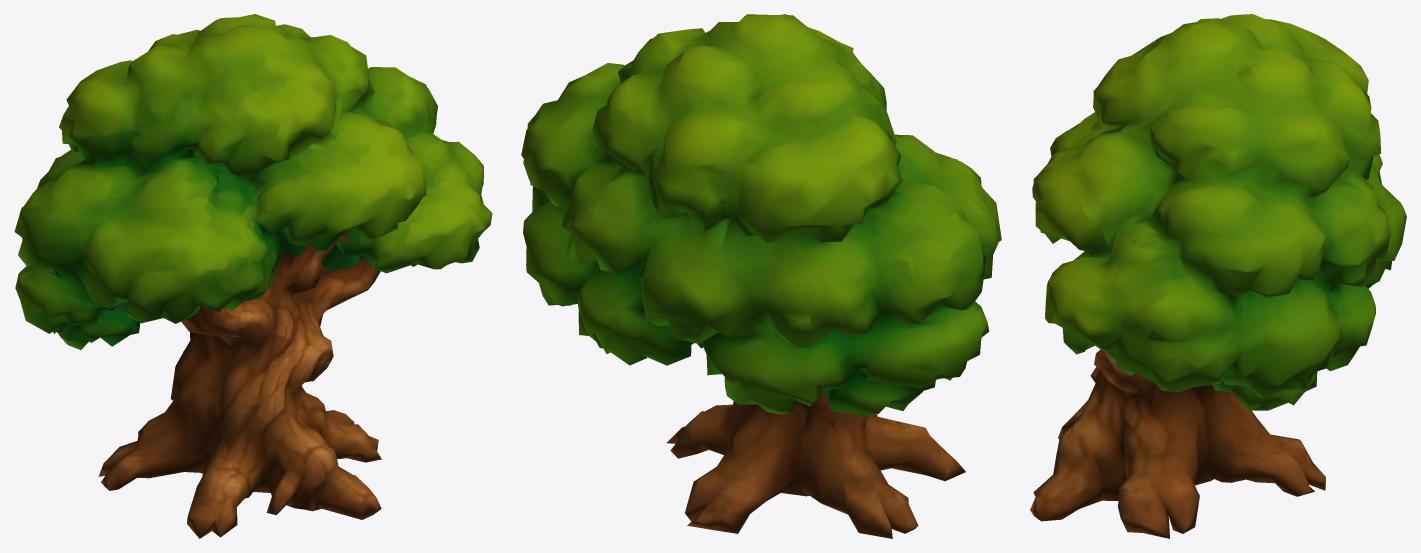
Rendered from oak.glb.
3 views of the same model, side by side, from view 1: azimuth 30°, elevation 25°; view 2: azimuth 150°, elevation 25°; view 3: azimuth 270°, elevation 25° (orthographic). The views are drawn at different scales.
Visible parts, largest first — view 1: oak; view 2: oak; view 3: oak.
Part boxes in pixels (x1,y1,x2,y2): oak: (14, 14, 492, 538); oak: (521, 14, 1001, 538); oak: (1030, 14, 1406, 538).
Bounding box in the file's own units: 11.21 × 11 × 8.07.
Materials: 1 (1 with a texture image).
